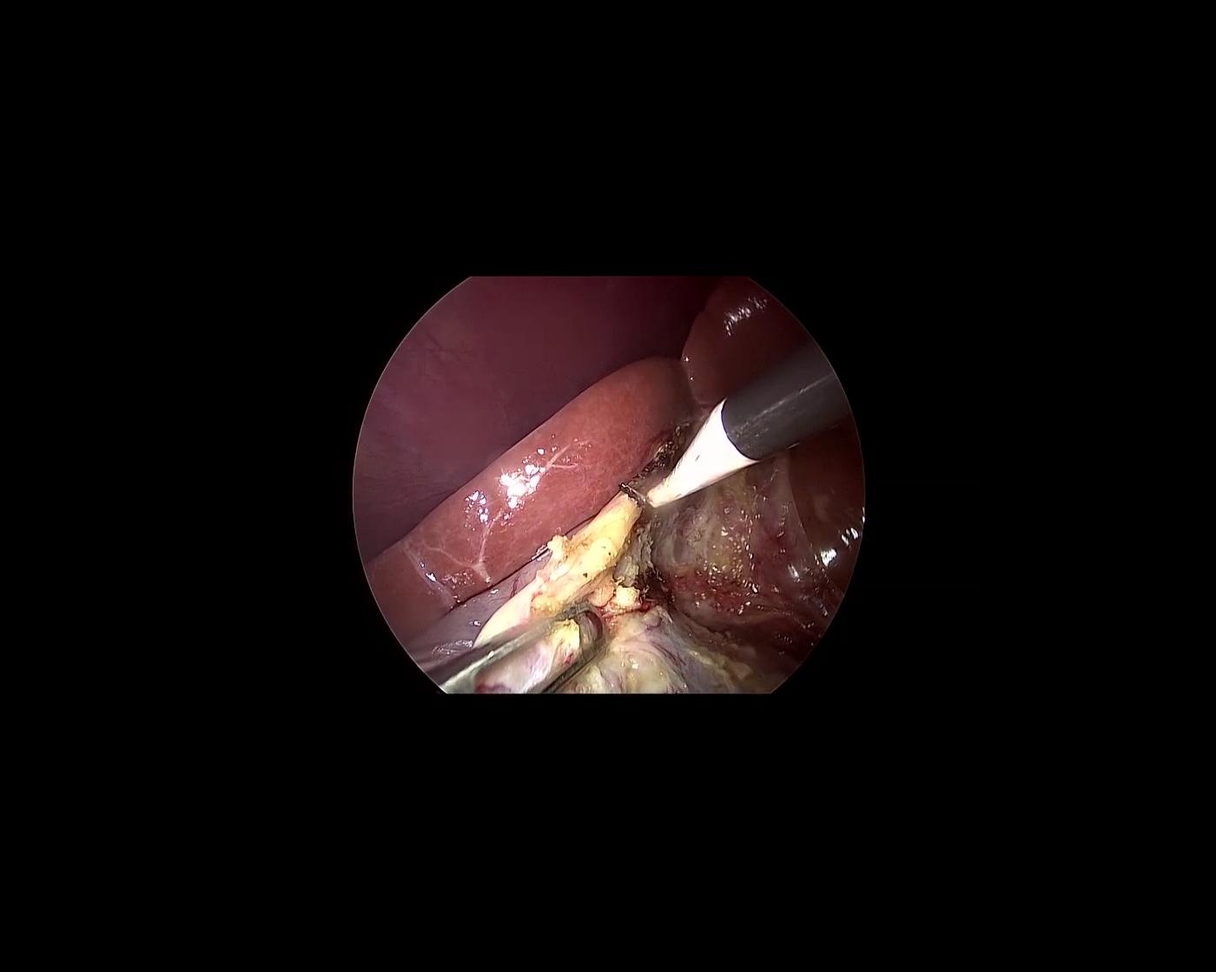Cautery: (607, 336, 862, 549)
Forceps: (423, 566, 627, 748)
Gallbladder: (406, 513, 768, 694)
Liver: (336, 266, 874, 647)
